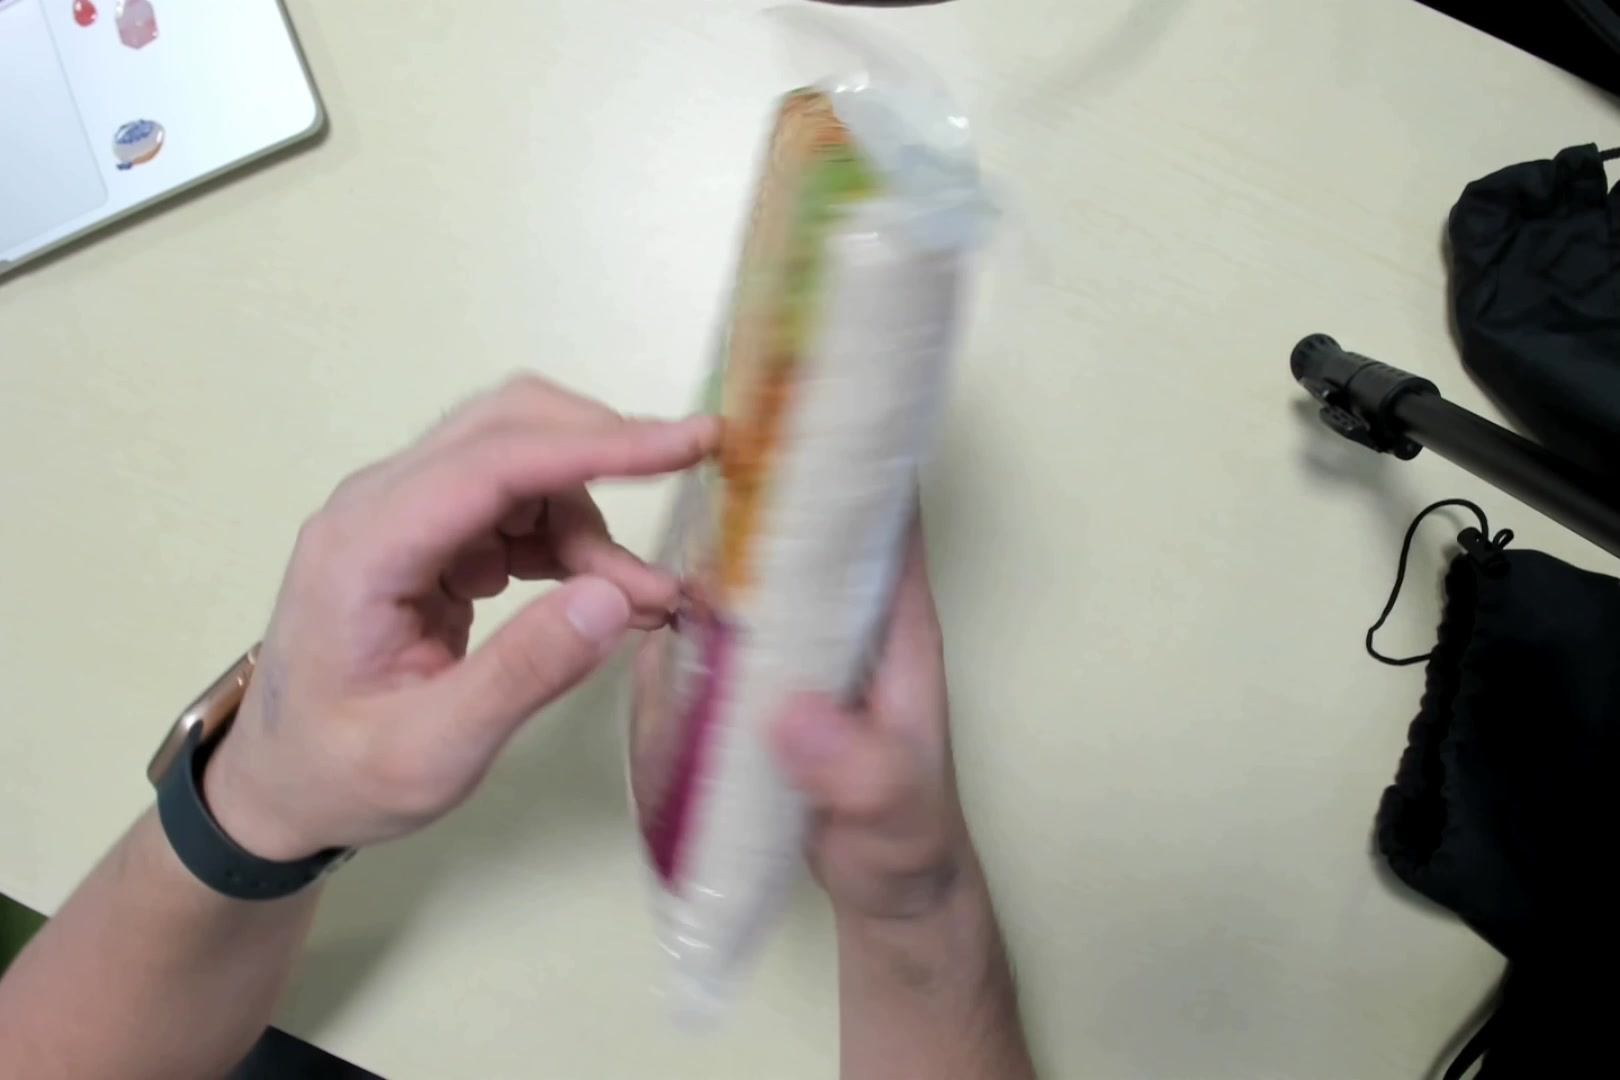Rice(White)_1000-1999g_NonHalal_NonHealthy: (630, 33, 998, 980)
